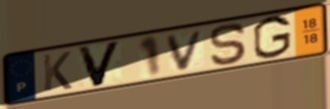1: (136, 33, 164, 79)
G: (251, 14, 293, 61)
K: (40, 49, 74, 94)
S: (207, 21, 250, 67)
V: (75, 39, 125, 89), (164, 28, 207, 73)
